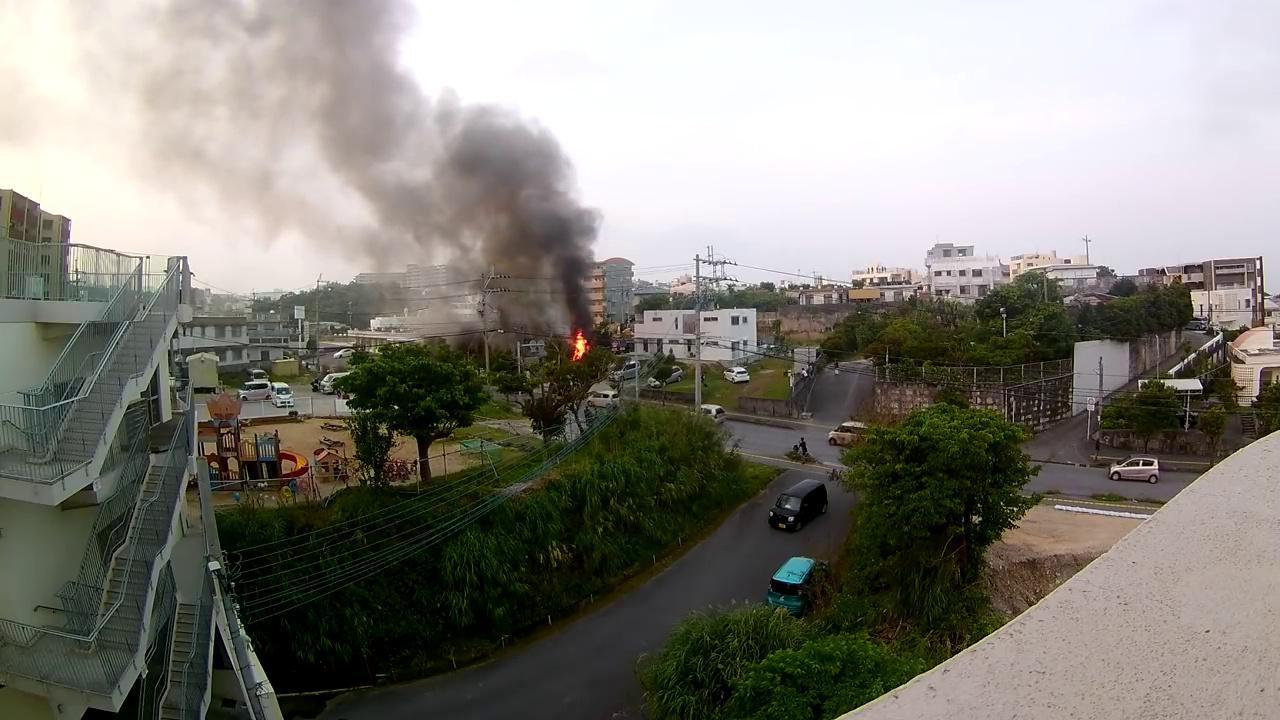Fire: (569, 333, 591, 359)
